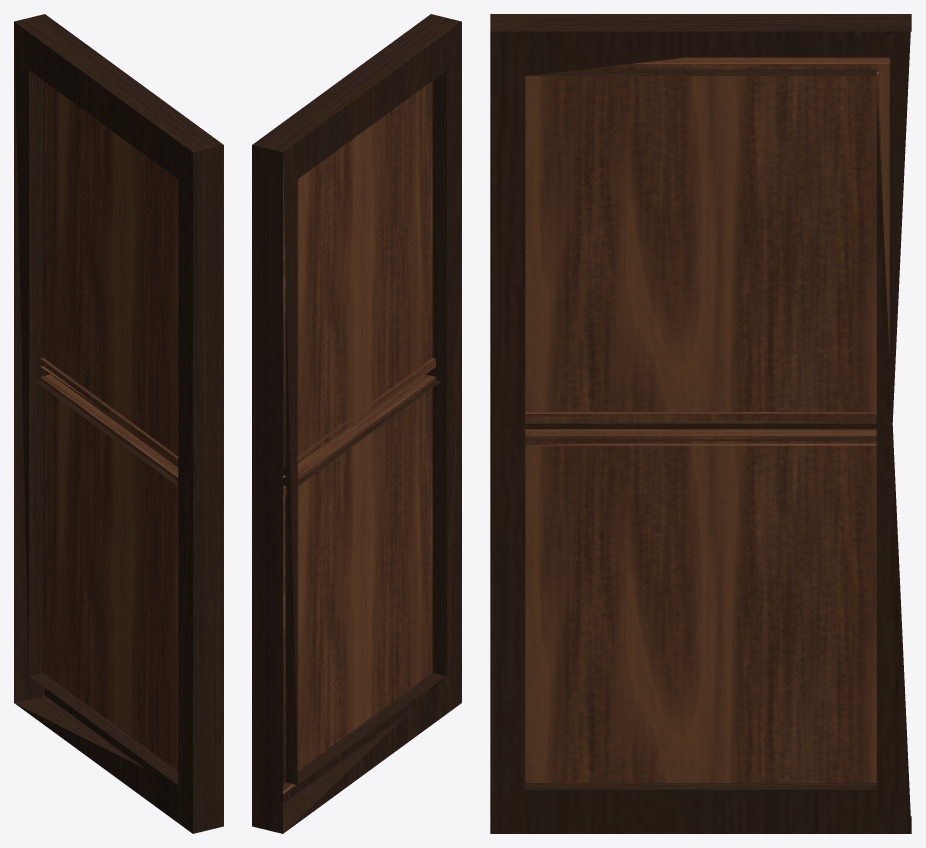
File: puertaMadera.obj
3 renders of one model, left to right at view 1: azimuth 30°, elevation 25°; view 2: azimuth 150°, elevation 25°; view 3: azimuth 270°, elevation 25°, orthographic. The views are drawn at different scales.
Parts seen in each view (by area): view 1: top_window_frame_011 frames Electrical_Shops, Electrical_Shops window_024 windows1, Electrical_Shops windows1 window_023; view 2: top_window_frame_011 frames Electrical_Shops, Electrical_Shops window_024 windows1, Electrical_Shops windows1 window_023; view 3: Electrical_Shops windows1 window_023, Electrical_Shops window_024 windows1, top_window_frame_011 frames Electrical_Shops.
Part boxes in pixels (x1=…): top_window_frame_011 frames Electrical_Shops: x1=14, y1=14, x2=223, y2=833; Electrical_Shops window_024 windows1: x1=40, y1=374, x2=178, y2=770; Electrical_Shops windows1 window_023: x1=40, y1=81, x2=178, y2=467; top_window_frame_011 frames Electrical_Shops: x1=252, y1=14, x2=461, y2=833; Electrical_Shops window_024 windows1: x1=283, y1=374, x2=435, y2=794; Electrical_Shops windows1 window_023: x1=283, y1=81, x2=435, y2=478; Electrical_Shops windows1 window_023: x1=525, y1=57, x2=889, y2=423; Electrical_Shops window_024 windows1: x1=525, y1=429, x2=876, y2=782; top_window_frame_011 frames Electrical_Shops: x1=490, y1=14, x2=911, y2=833.
Bounding box in the file's own units: 0.9347 × 19.71 × 9.38.
2 materials, 2 textured.
